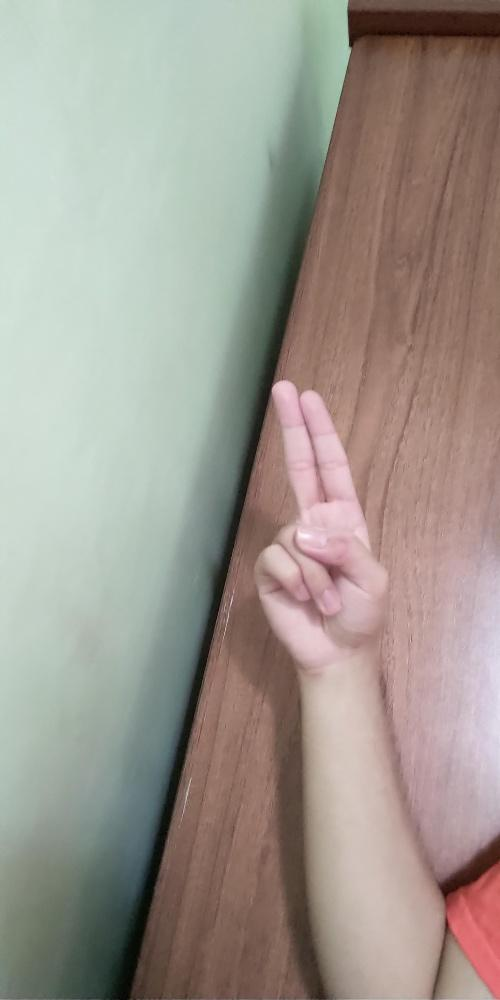u: (253, 377, 392, 670)
